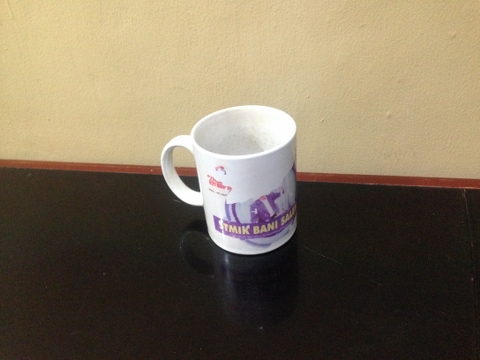tempat minum: (160, 104, 297, 256)
